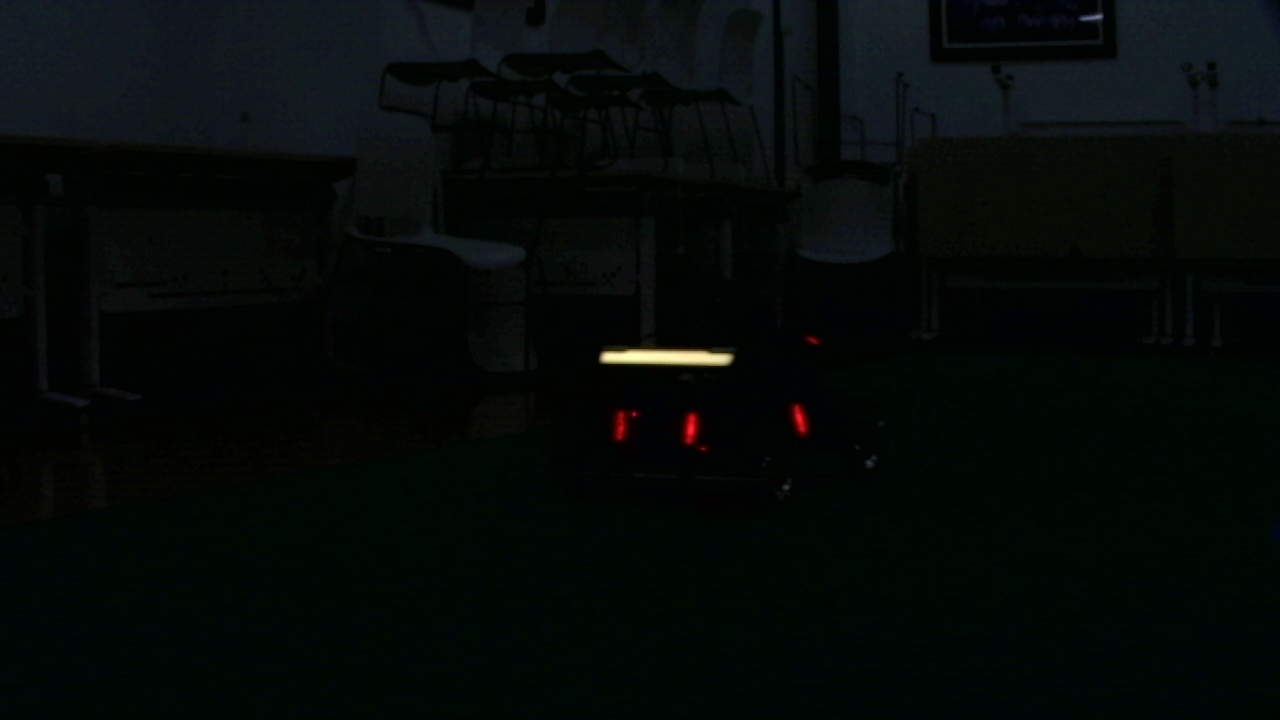lamp: (788, 401, 812, 436), (681, 405, 698, 447), (613, 406, 629, 441)
pair1: (615, 411, 699, 442)
